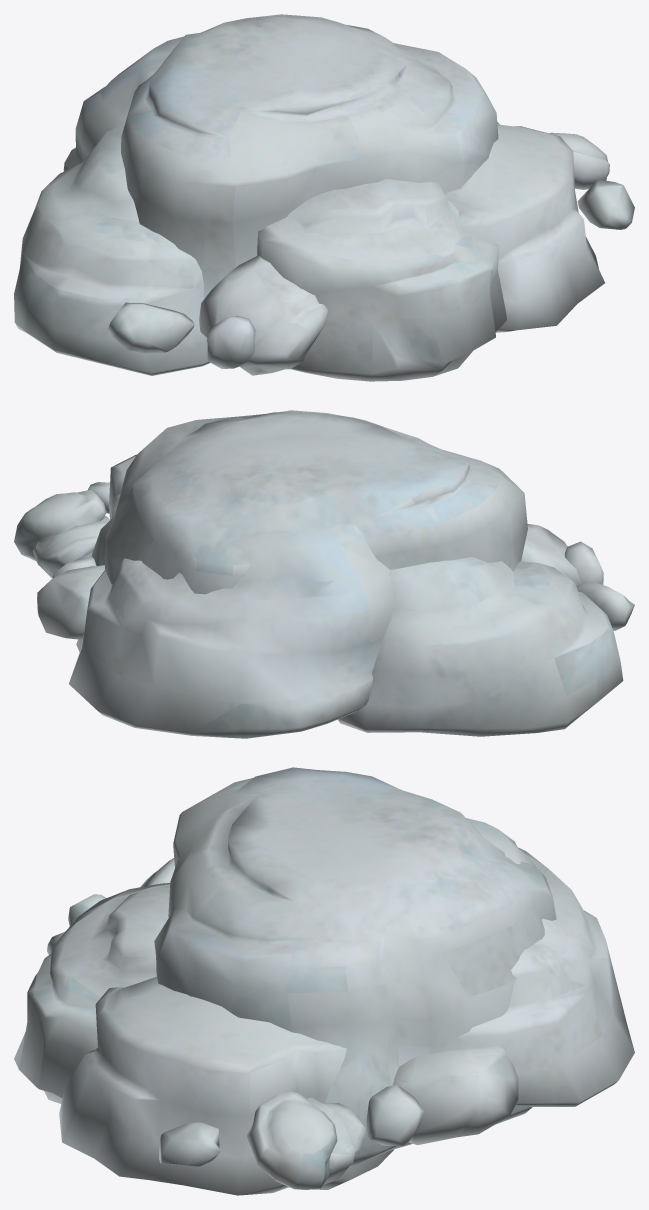
Rendered from P_RockDesert_Clump08.obj.
The picture shows the model from 3 angles, top to bottom: view 1: azimuth 30°, elevation 25°; view 2: azimuth 150°, elevation 25°; view 3: azimuth 270°, elevation 25°; orthographic projection. The views are drawn at different scales.
Size of the model in its own units: 8.34 by 3.29 by 7.06.
